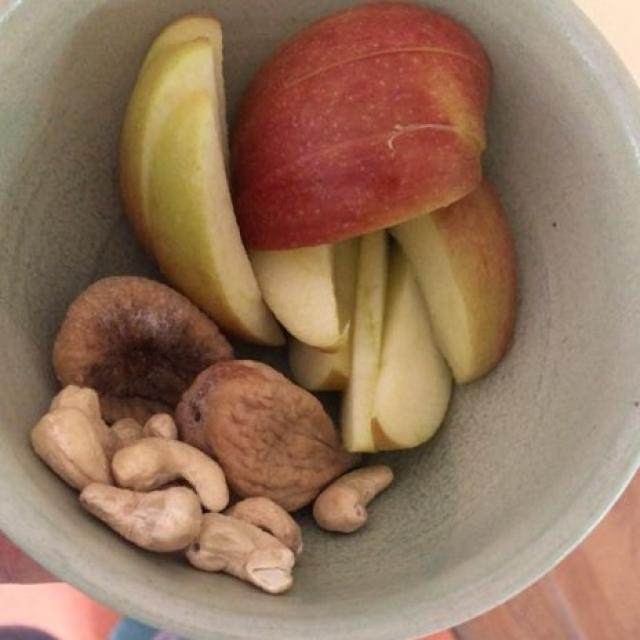apple: (146, 16, 532, 467)
cashew-nut: (50, 386, 415, 600)
fig-dried: (70, 275, 369, 494)
